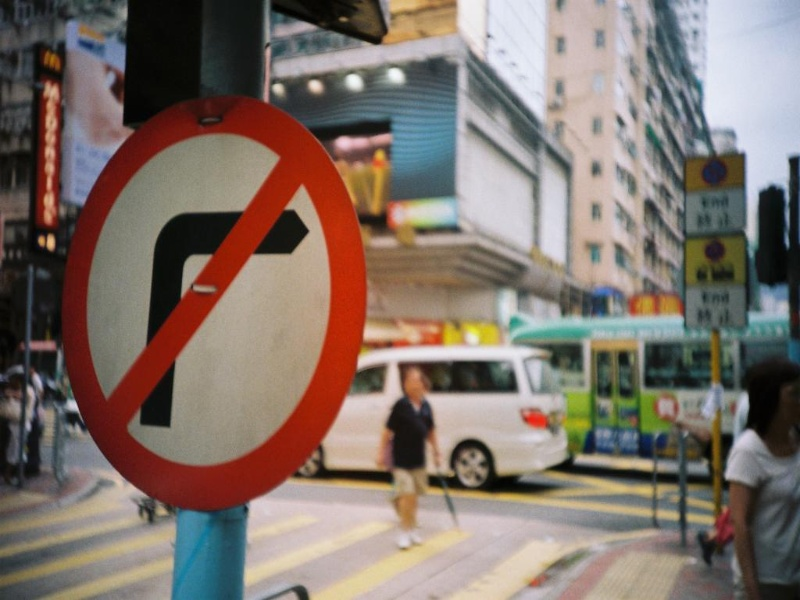no_left_turn: (76, 118, 387, 492)
